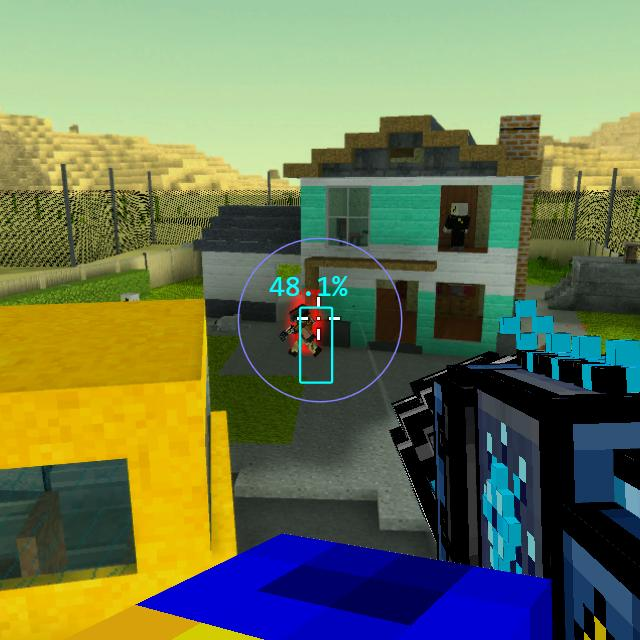Enemy: (287, 304, 317, 355)
